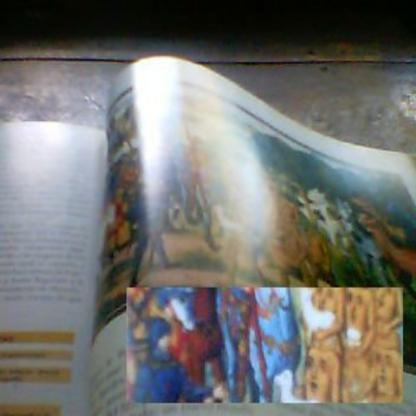book: (0, 52, 415, 415)
